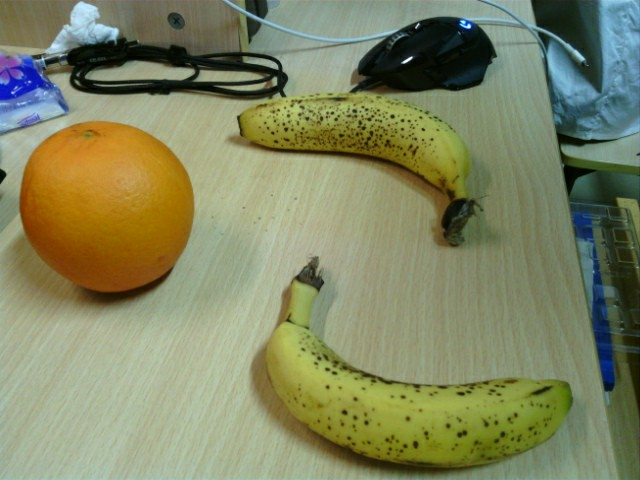normal_banana: (266, 257, 574, 466), (237, 93, 483, 248)
normal_orange: (21, 122, 194, 290)
